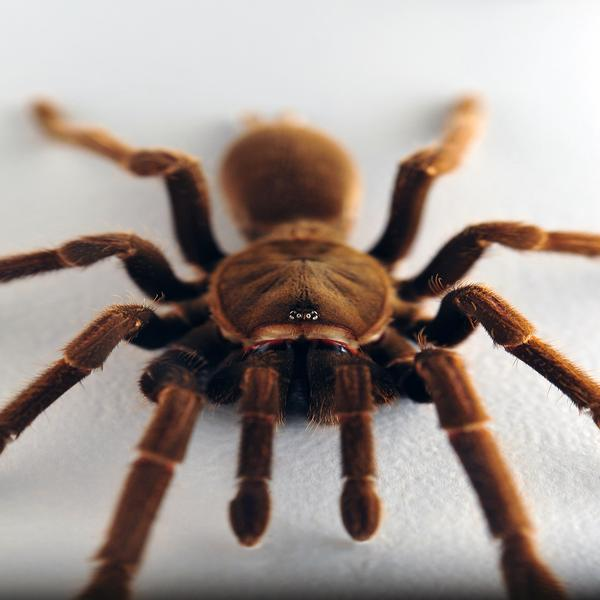Tarantula Spider: (36, 109, 590, 584)
